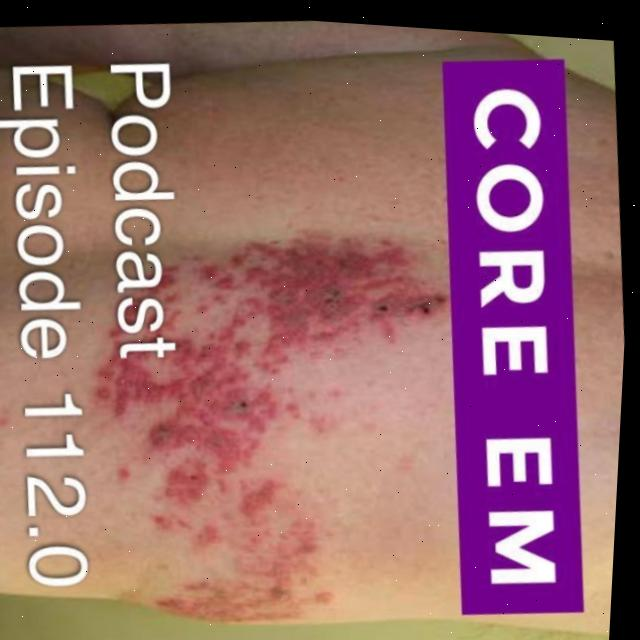Shingles: (66, 190, 478, 640)
